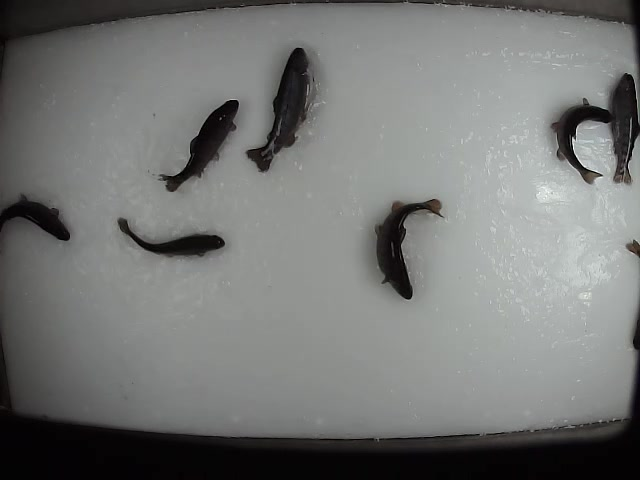fish: (244, 42, 317, 175), (151, 98, 240, 196), (368, 195, 449, 300), (547, 94, 612, 185), (114, 215, 229, 258), (608, 71, 640, 186)
